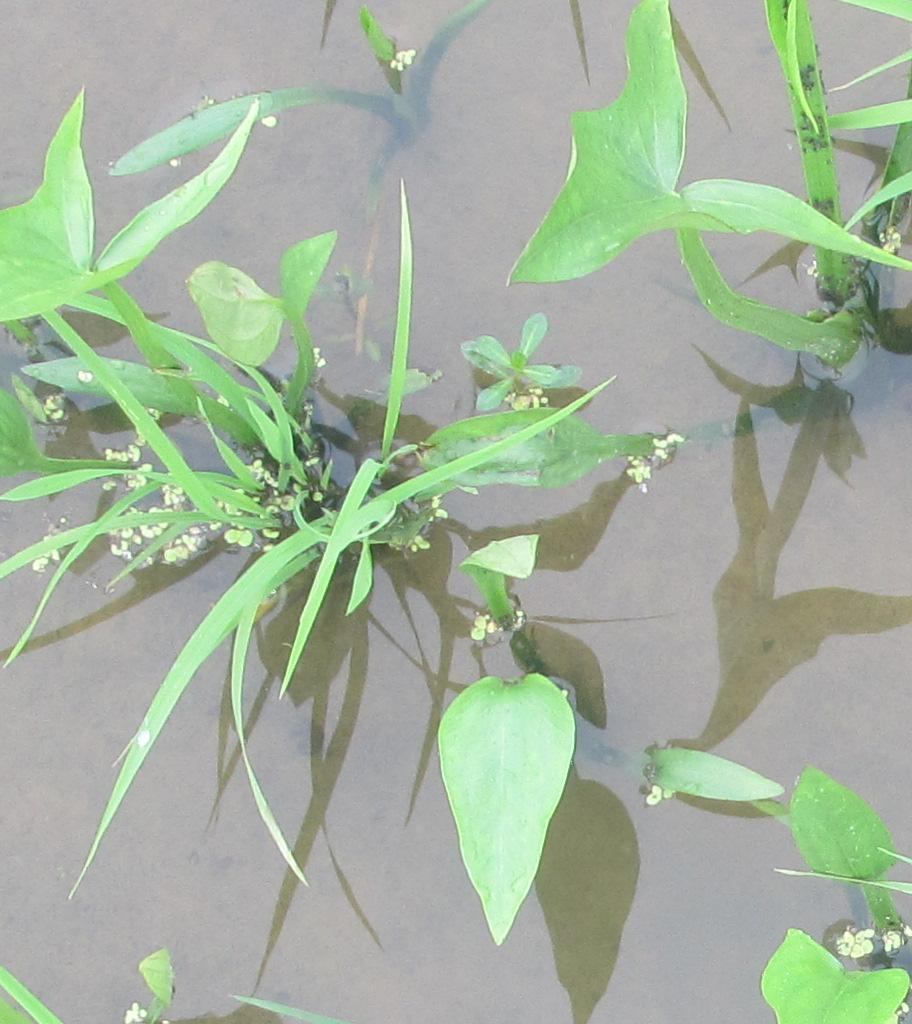Weed: (557, 16, 911, 272), (2, 107, 332, 360), (775, 761, 912, 1014), (428, 671, 580, 892), (452, 322, 582, 413)
